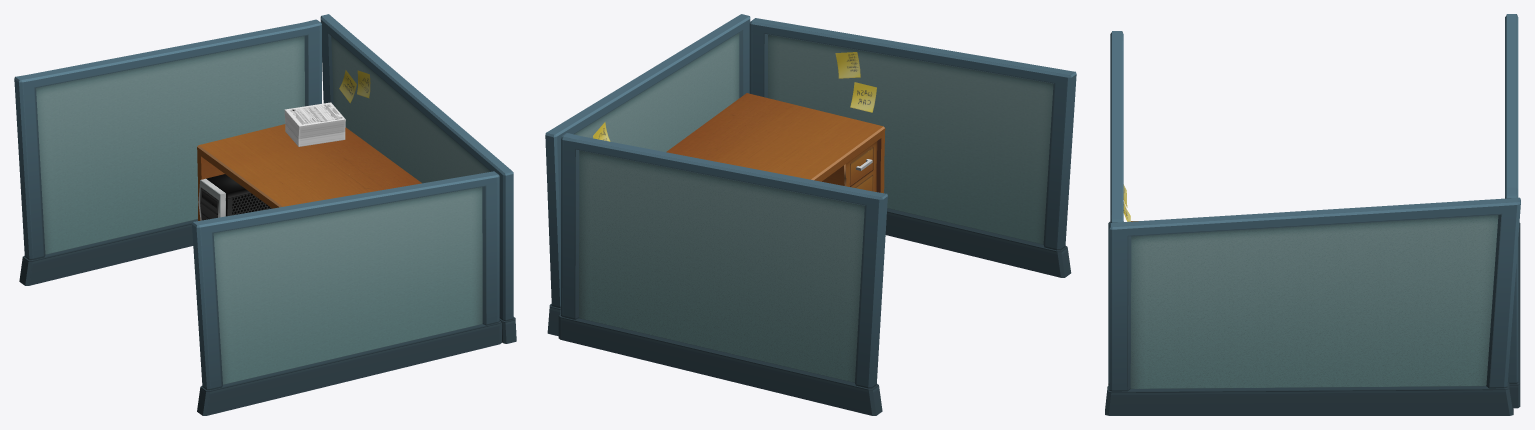
Rendered from SM_Cubicle_B.fbx.
The picture shows the model from 3 angles, left to right: view 1: azimuth 30°, elevation 25°; view 2: azimuth 150°, elevation 25°; view 3: azimuth 270°, elevation 25°; orthographic projection. The views are drawn at different scales.
Parts seen in each view (by area): view 1: Cubicle; view 2: Cubicle; view 3: Cubicle.
Part boxes in pixels (x1,y1,x2,y2): Cubicle: (14, 14, 516, 415); Cubicle: (545, 14, 1076, 415); Cubicle: (1105, 14, 1520, 415).
Size of the model in its own units: 236 by 146 by 240.
Materials: 8 (8 with a texture image).
